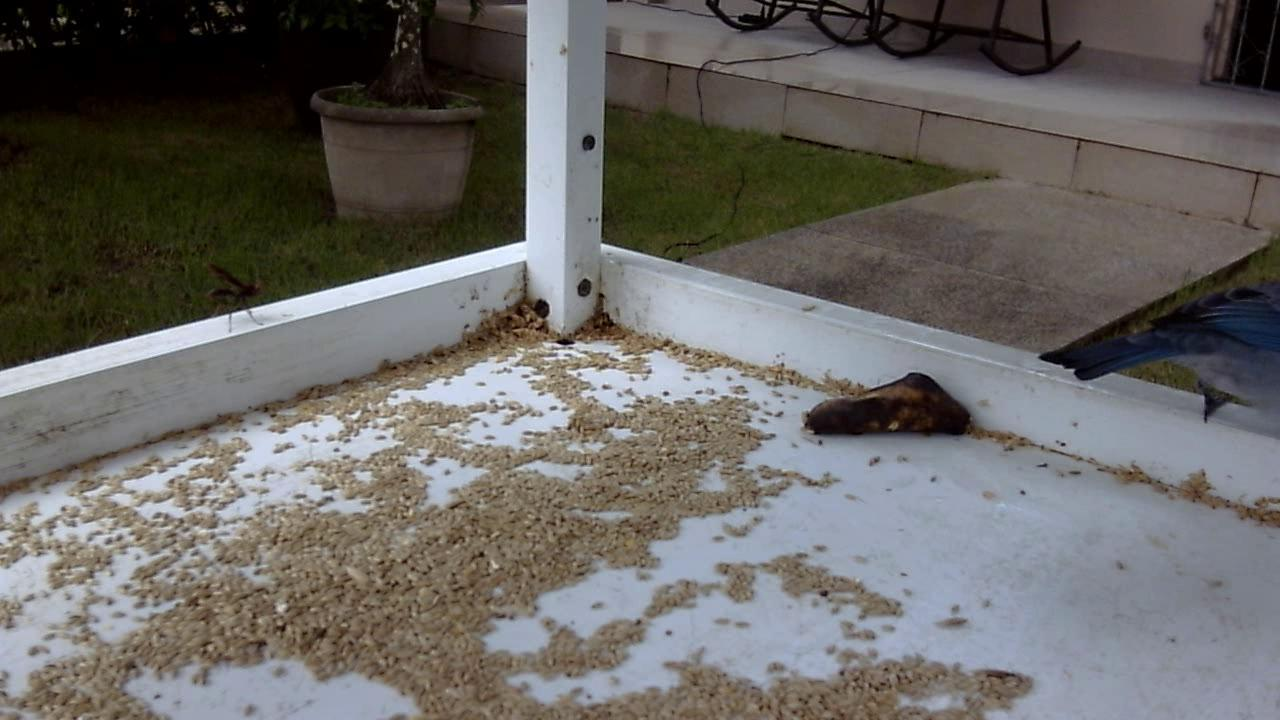sanhaco_da_amazonia: (1048, 269, 1276, 444)
